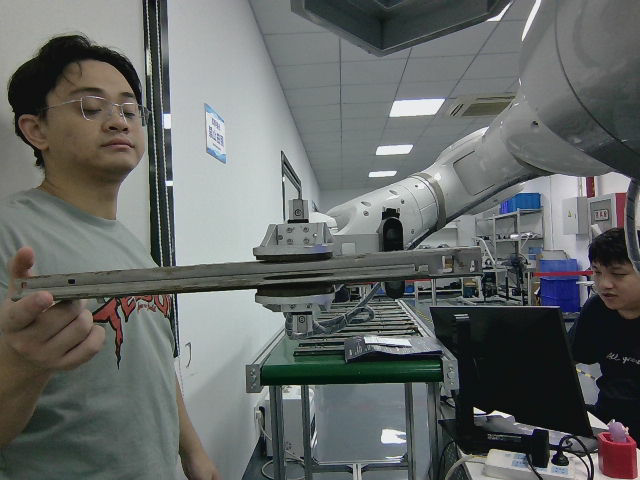down: (13, 247, 483, 304)
